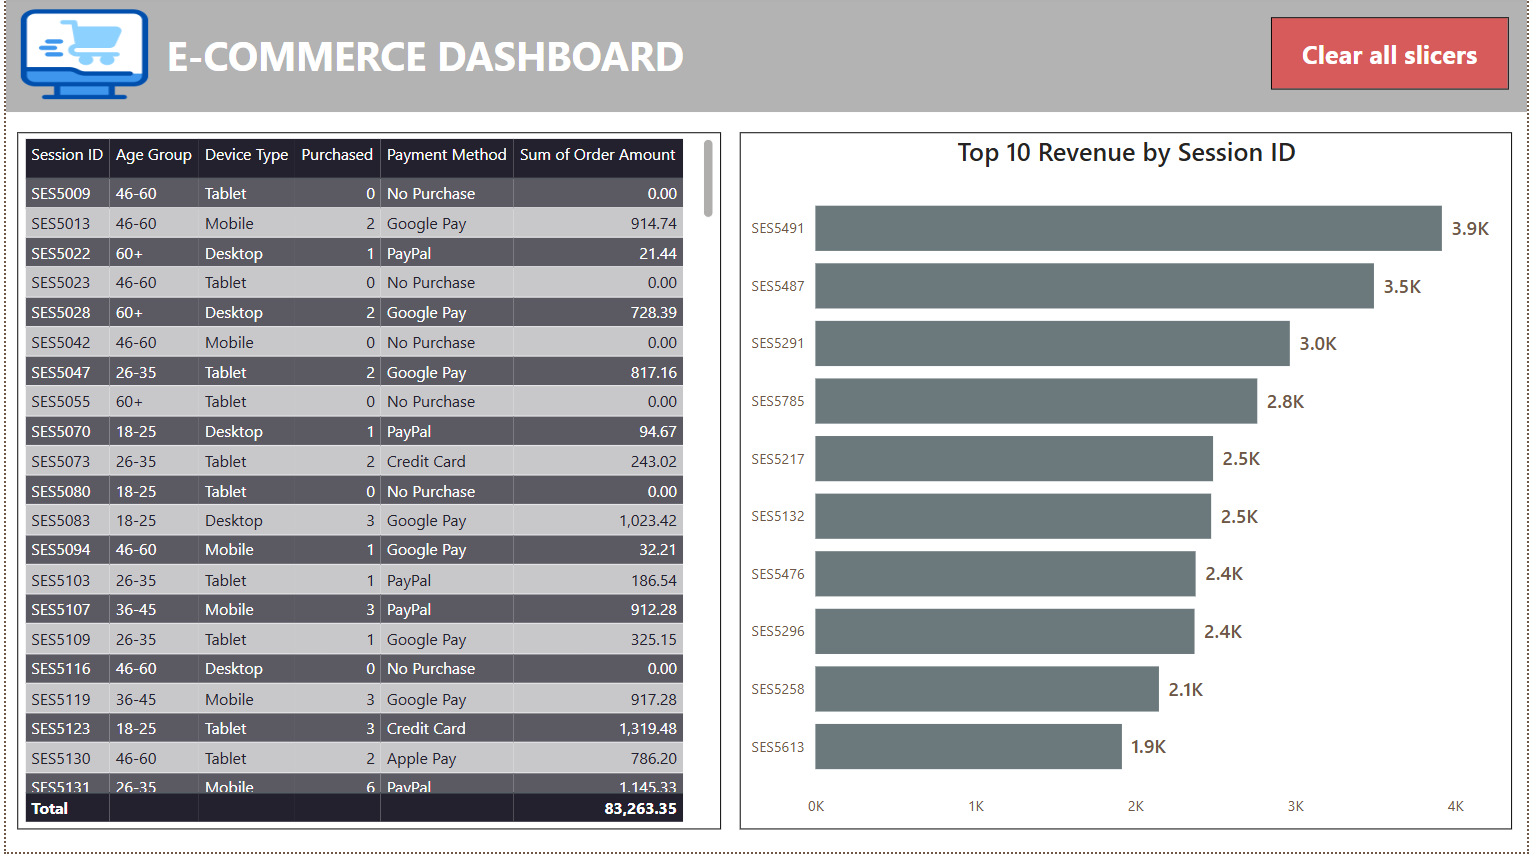

What the dashboard file says about the page in this screenshot:
{"tool":"powerbi","page":{"name":"Drill-Through Details","canvas":[1280,720],"ordinal":2},"visuals":[{"type":"tableEx","fields":{"Values":["Master Table.Session ID","Master Table.Age Group","Master Table.Device Type","Master Table.Purchased","Master Table.Payment Method","Sum(Master Table.Order Amount)"]},"box":[9.2,114.9,592,586.2],"z":0},{"type":"barChart","title":"Top 10 Revenue by Session ID","fields":{"Category":["Master Table.Session ID"],"Y":["Master Table.Total Revenue"]},"box":[617.2,114.9,649.4,586.2],"z":1000},{"type":"shape","box":[0,0,1280.5,97.7],"z":2000},{"type":"shape","box":[114.9,0,475.9,97.7],"z":3000},{"type":"image","box":[0,1.1,132.2,96.6],"z":4000},{"type":"actionButton","box":[1064.4,18.4,200,60.9],"z":4001}]}

Visuals, with their boxes in screenshot pixels (x1, y1, x2, y2), scaled from the page's 1280x720 canvas onto the 1533x858 screenshot:
tableEx - Master Table.Session ID x Master Table.Age Group: {"x1": 11, "y1": 137, "x2": 720, "y2": 835}
"Top 10 Revenue by Session ID" barChart: {"x1": 739, "y1": 137, "x2": 1517, "y2": 835}
shape: {"x1": 0, "y1": 0, "x2": 1532, "y2": 116}
shape: {"x1": 138, "y1": 0, "x2": 708, "y2": 116}
image: {"x1": 0, "y1": 1, "x2": 158, "y2": 116}
actionButton: {"x1": 1275, "y1": 22, "x2": 1514, "y2": 94}
